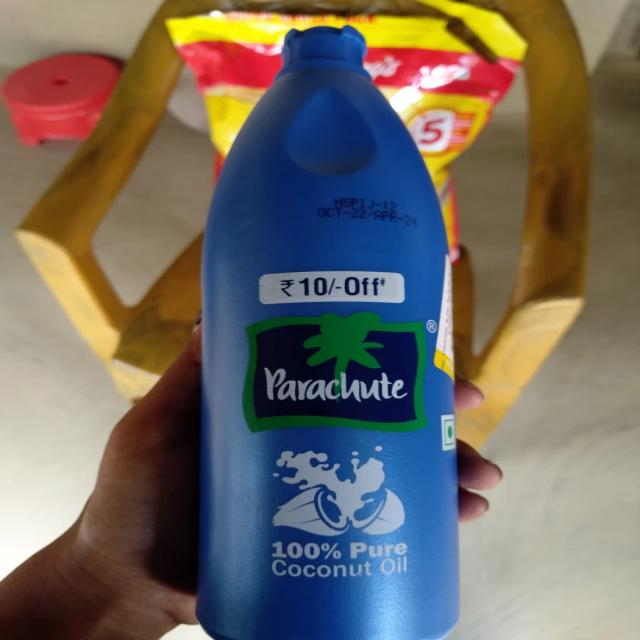parachute_oil: (193, 23, 463, 640)
